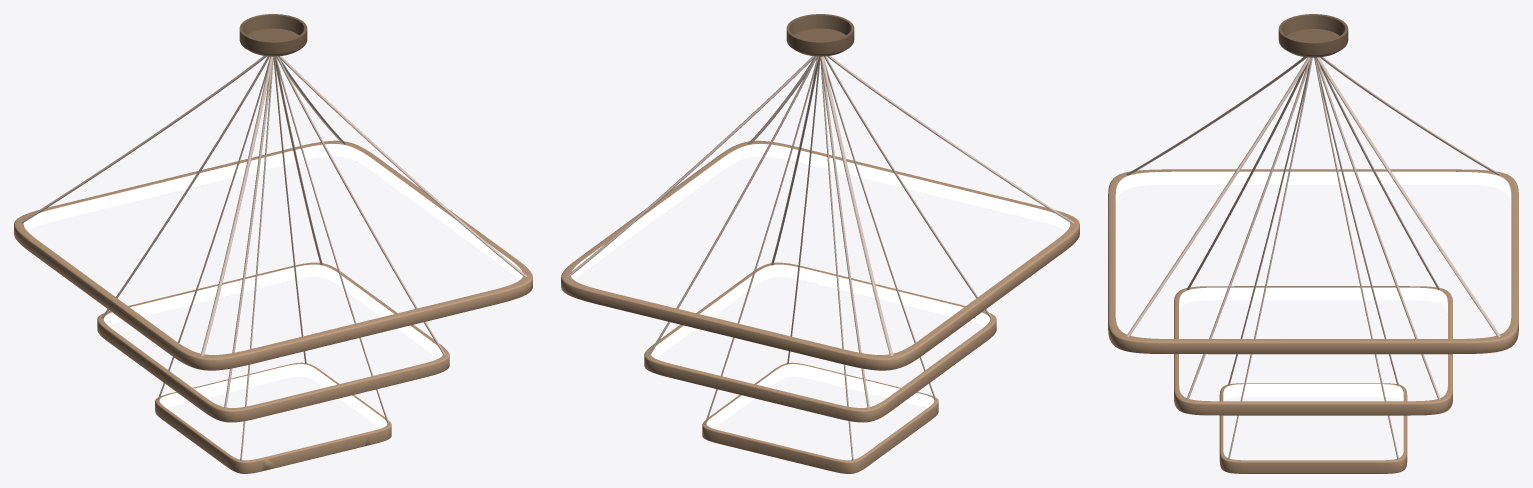
The model's file is hanging-led-lamp.glb.
3 views of the same model, side by side, from view 1: azimuth 30°, elevation 25°; view 2: azimuth 150°, elevation 25°; view 3: azimuth 270°, elevation 25° (orthographic). The views are drawn at different scales.
Visible parts, largest first — view 1: Cylinder_metal_0, lamp_light_0, lamp_1_0, Cylinder_2_0; view 2: Cylinder_metal_0, lamp_light_0, lamp_1_0, Cylinder_2_0; view 3: Cylinder_metal_0, lamp_light_0, lamp_1_0, Cylinder_2_0.
Part boxes in pixels (<box>): Cylinder_metal_0: <box>14,140,532,473</box>; lamp_light_0: <box>23,144,522,428</box>; lamp_1_0: <box>19,56,527,460</box>; Cylinder_2_0: <box>239,14,307,56</box>; Cylinder_metal_0: <box>561,140,1079,473</box>; lamp_light_0: <box>571,144,1070,428</box>; lamp_1_0: <box>566,56,1074,460</box>; Cylinder_2_0: <box>786,14,854,56</box>; Cylinder_metal_0: <box>1108,169,1518,473</box>; lamp_light_0: <box>1115,171,1511,401</box>; lamp_1_0: <box>1126,57,1500,459</box>; Cylinder_2_0: <box>1278,14,1348,57</box>.
Size of the model in its own units: 0.4 by 0.4364 by 0.4.
